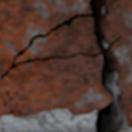broken_brick: (0, 57, 110, 118), (0, 0, 89, 74), (106, 0, 131, 129)
crack: (0, 0, 130, 131), (8, 109, 14, 116)
